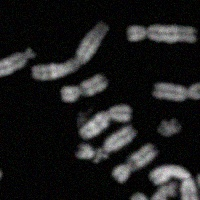chromosome: (32, 22, 110, 80), (71, 124, 134, 161), (80, 104, 132, 137), (150, 165, 199, 200), (126, 24, 195, 46), (114, 145, 156, 181), (61, 75, 106, 103), (0, 46, 34, 78), (152, 81, 200, 101), (152, 181, 177, 200), (160, 119, 183, 137), (132, 192, 178, 200), (195, 171, 200, 200), (0, 166, 3, 200)
